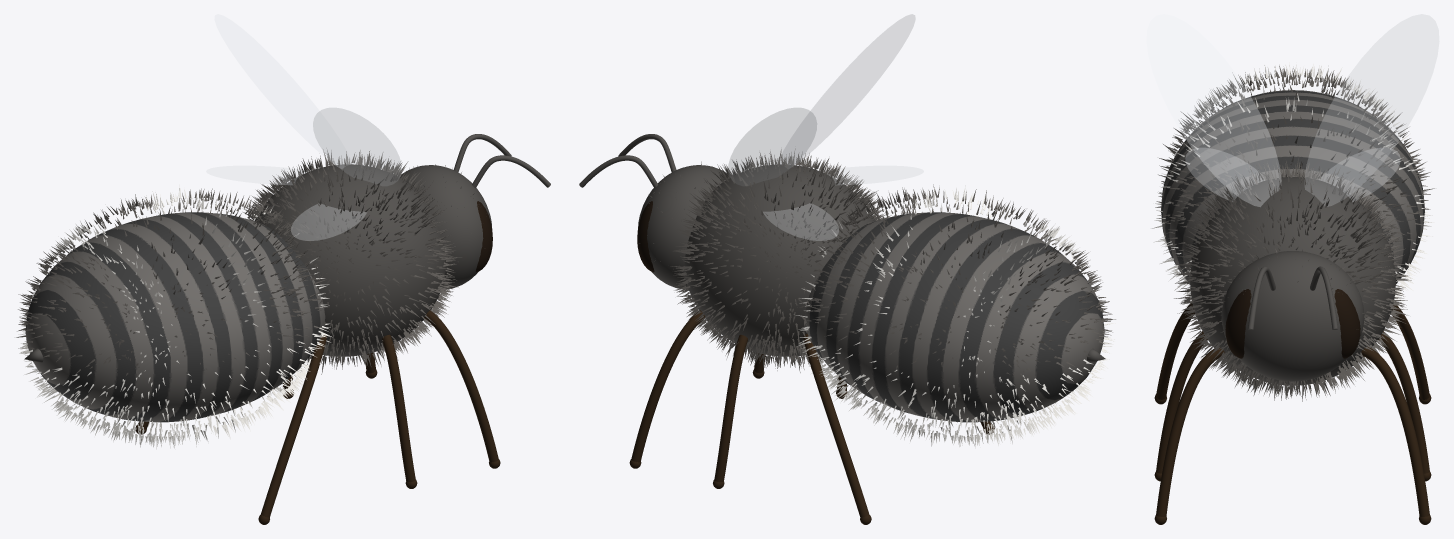
Rendered from bee-hero-megachile.glb.
3 renders of one model, left to right at view 1: azimuth 30°, elevation 25°; view 2: azimuth 150°, elevation 25°; view 3: azimuth 270°, elevation 25°, orthographic. The views are drawn at different scales.
Parts seen in each view (by area): view 1: abdomen, fuzz, thorax, head, foreWingL, foreWingR, hindLegR, hindWingR, foreLegR, midLegR, hindWingL, compoundEyeR; view 2: abdomen, fuzz, thorax, foreWingR, head, foreWingL, hindLegL, hindWingL, foreLegL, midLegL, hindWingR, compoundEyeL; view 3: abdomen, fuzz, thorax, foreWingL, foreWingR, head, hindWingL, hindWingR, foreLegL, foreLegR, midLegL, midLegR (+6 smaller).
Boxes of the visible parts, <box> form: abdomen: <box>25,212,325,422</box>; fuzz: <box>16,149,479,449</box>; thorax: <box>254,164,445,356</box>; head: <box>399,165,492,288</box>; foreWingL: <box>214,14,351,168</box>; foreWingR: <box>313,108,401,185</box>; hindLegR: <box>260,335,326,517</box>; hindWingR: <box>291,204,366,240</box>; foreLegR: <box>424,310,498,462</box>; midLegR: <box>382,334,415,482</box>; hindWingL: <box>206,166,308,184</box>; compoundEyeR: <box>475,201,492,272</box>; abdomen: <box>805,212,1104,422</box>; fuzz: <box>639,149,1115,447</box>; thorax: <box>684,164,875,356</box>; foreWingR: <box>780,14,915,168</box>; head: <box>638,165,729,289</box>; foreWingL: <box>728,108,816,185</box>; hindLegL: <box>803,333,869,517</box>; hindWingL: <box>763,203,838,240</box>; foreLegL: <box>631,310,705,462</box>; midLegL: <box>714,334,747,482</box>; hindWingR: <box>823,166,923,184</box>; compoundEyeL: <box>637,201,654,272</box>; abdomen: <box>1161,90,1424,283</box>; fuzz: <box>1151,62,1434,401</box>; thorax: <box>1190,177,1395,385</box>; foreWingL: <box>1305,14,1439,206</box>; foreWingR: <box>1146,14,1281,206</box>; head: <box>1221,251,1364,381</box>; hindWingL: <box>1320,148,1400,201</box>; hindWingR: <box>1185,148,1264,201</box>; foreLegL: <box>1361,346,1429,516</box>; foreLegR: <box>1156,347,1224,516</box>; midLegL: <box>1378,331,1429,473</box>; midLegR: <box>1156,331,1207,473</box>.
Bounding box in the file's own units: 0.8077 × 0.6076 × 0.377.
7 materials, 1 textured.
